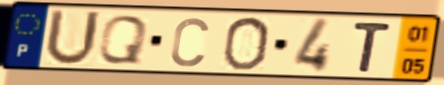4: (291, 16, 334, 76)
C: (168, 15, 211, 69)
O: (220, 15, 273, 72)
Q: (95, 13, 151, 66)
T: (351, 20, 395, 75)
U: (41, 7, 103, 69)
